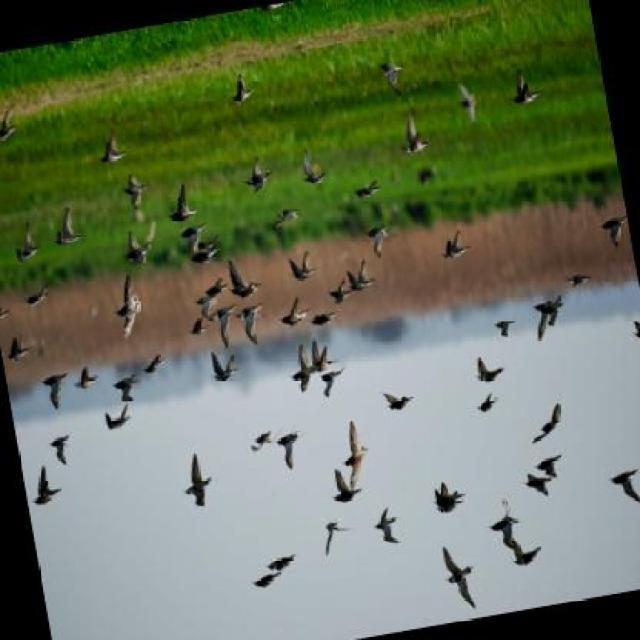Bird: (440, 545, 481, 614), (112, 272, 144, 340), (343, 419, 370, 490), (183, 451, 213, 511), (529, 402, 564, 447), (488, 497, 520, 544), (194, 278, 229, 320), (228, 259, 263, 299), (125, 220, 156, 265), (53, 205, 86, 247), (167, 182, 201, 222), (30, 465, 62, 507), (403, 110, 432, 155), (42, 368, 72, 411), (432, 481, 467, 516), (290, 342, 313, 395), (373, 505, 403, 545), (322, 517, 351, 558), (14, 221, 41, 265), (332, 467, 363, 505), (440, 228, 474, 262), (608, 469, 640, 505), (216, 302, 241, 348), (238, 302, 264, 346), (511, 69, 542, 105), (243, 157, 273, 194), (346, 257, 377, 292), (533, 295, 564, 329), (473, 355, 507, 385), (100, 127, 127, 164), (510, 540, 545, 568), (275, 432, 300, 471), (123, 173, 150, 209), (279, 297, 310, 328), (287, 252, 318, 283), (210, 349, 237, 384), (522, 472, 555, 500), (319, 367, 346, 401), (302, 149, 327, 185), (232, 70, 255, 108), (534, 451, 565, 479), (601, 216, 628, 248), (313, 338, 338, 372), (111, 374, 140, 403), (368, 224, 391, 259), (103, 405, 132, 432), (457, 84, 477, 123), (264, 552, 301, 573), (381, 391, 416, 413), (381, 56, 405, 87), (0, 103, 18, 144), (50, 430, 69, 468), (7, 336, 31, 366), (74, 365, 100, 391), (251, 572, 288, 590), (249, 428, 275, 453), (23, 287, 52, 309), (273, 207, 303, 228), (142, 352, 167, 377), (328, 280, 352, 306), (189, 248, 222, 266), (355, 180, 383, 200), (494, 317, 517, 340), (192, 236, 221, 254), (476, 392, 498, 415), (312, 310, 338, 328), (181, 221, 208, 238), (566, 273, 592, 289), (189, 317, 210, 336), (535, 312, 547, 344)
